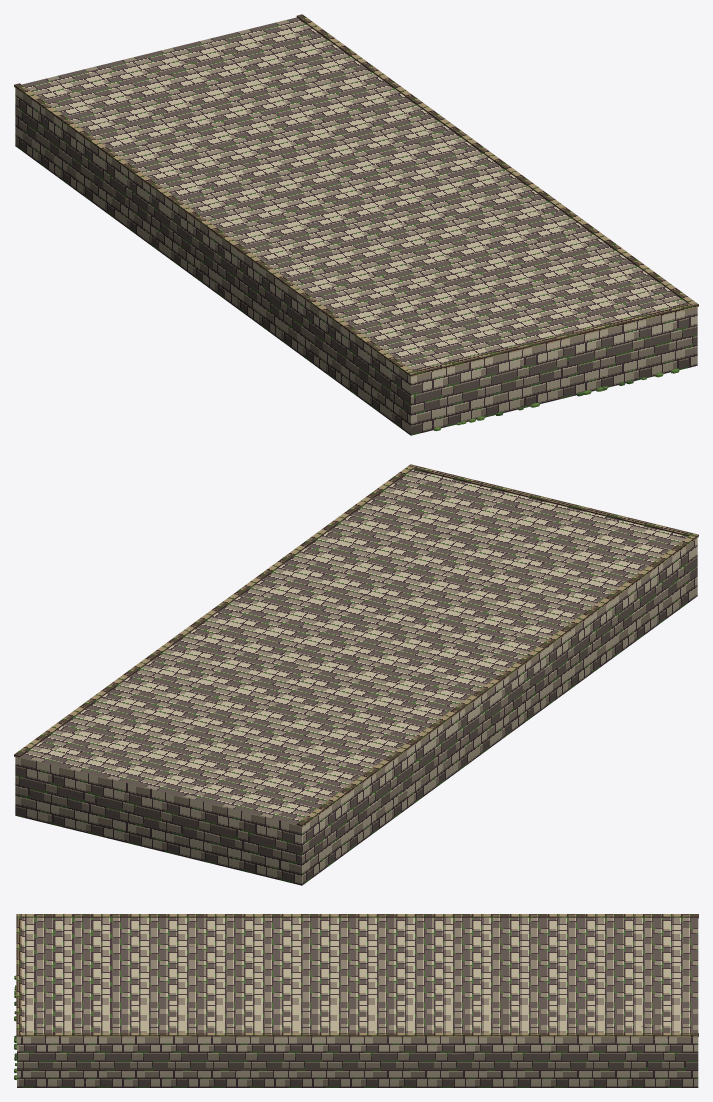
The model's file is scene_wall_e.glb.
3 views of the same model, one above another, from view 1: azimuth 30°, elevation 25°; view 2: azimuth 150°, elevation 25°; view 3: azimuth 270°, elevation 25° (orthographic). The views are drawn at different scales.
Parts seen in each view (by area): view 1: scene_wall_e; view 2: scene_wall_e; view 3: scene_wall_e.
Boxes of the visible parts, box(x1,y1,x2,y2) form: scene_wall_e: box(14, 14, 698, 435); scene_wall_e: box(14, 464, 698, 885); scene_wall_e: box(14, 914, 698, 1087).
Bounding box in the file's own units: 18.1 × 3.77 × 43.24.
Materials: 2 (1 with a texture image).
